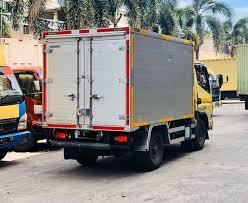truck: (38, 25, 228, 170)
